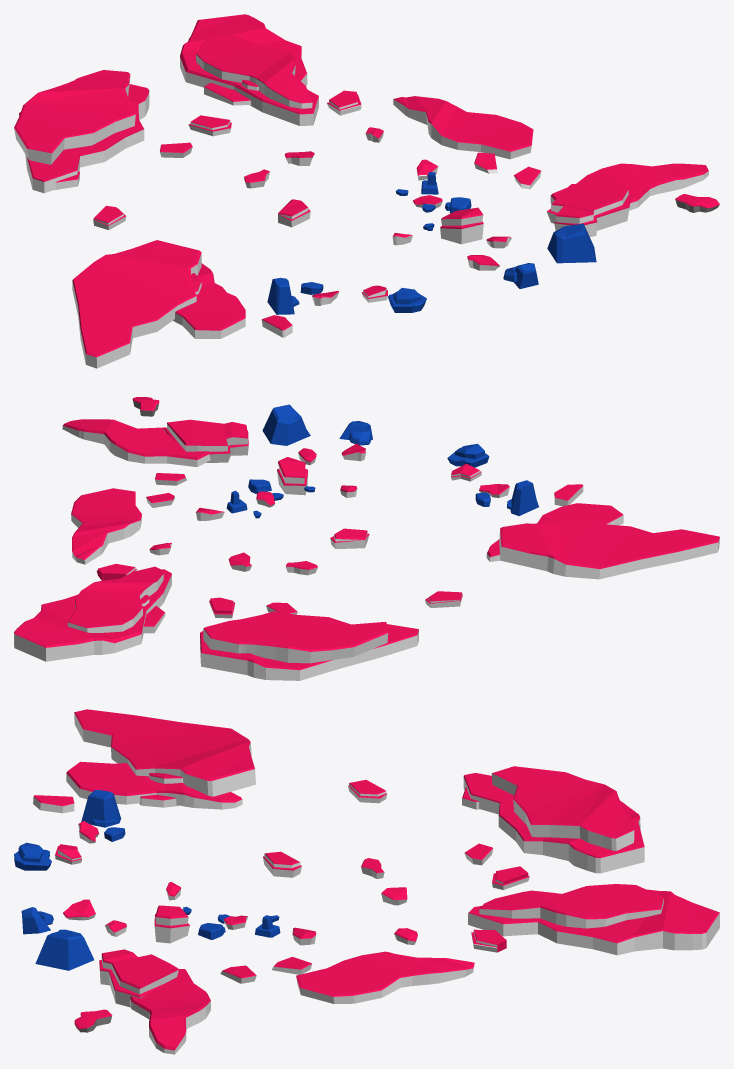
The model's file is SM_Environment_00.fbx.
3 views of the same model, one above another, from view 1: azimuth 30°, elevation 25°; view 2: azimuth 150°, elevation 25°; view 3: azimuth 270°, elevation 25° (orthographic). The views are drawn at different scales.
Parts seen in each view (by area): view 1: SM_Environment_00; view 2: SM_Environment_00; view 3: SM_Environment_00.
Boxes of the visible parts, x1,y1,x2,y2 form: SM_Environment_00: (14, 14, 719, 368); SM_Environment_00: (14, 397, 719, 680); SM_Environment_00: (14, 709, 719, 1054).
Bounding box in the file's own units: 149 × 132 × 8.24.
